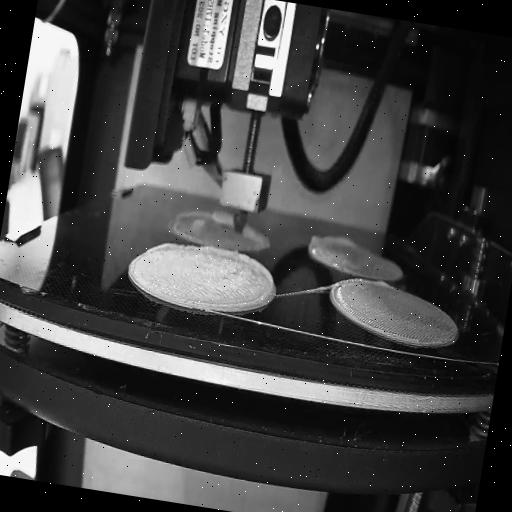over_extrusion: (188, 242, 278, 320), (309, 229, 356, 254), (146, 236, 180, 257), (202, 208, 236, 228), (242, 222, 266, 246), (368, 276, 394, 290)
